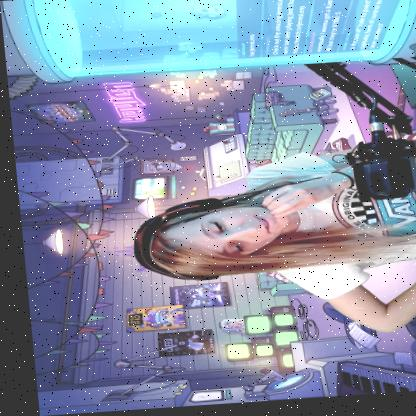streamer: (120, 143, 416, 349)
